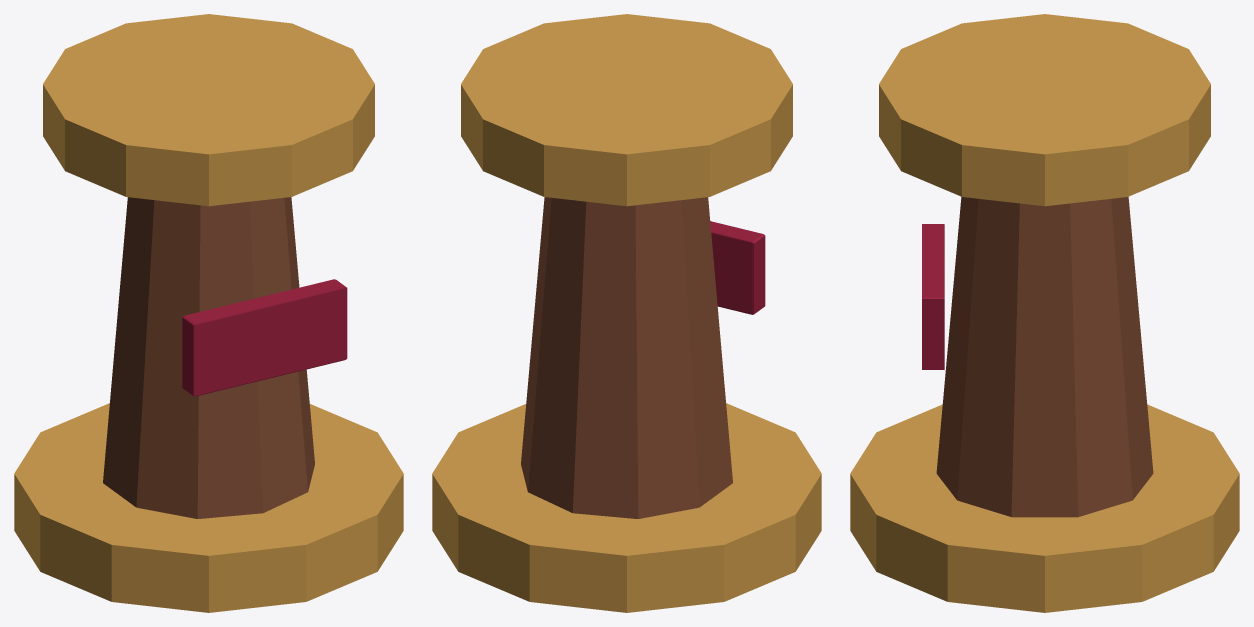
The model's file is pedestal.glb.
The picture shows the model from 3 angles, left to right: view 1: azimuth 30°, elevation 25°; view 2: azimuth 150°, elevation 25°; view 3: azimuth 270°, elevation 25°; orthographic projection.
Parts seen in each view (by area): view 1: pedestal_top, pedestal_column, pedestal_base, pedestal_plaque; view 2: pedestal_column, pedestal_top, pedestal_base, pedestal_plaque; view 3: pedestal_column, pedestal_top, pedestal_base, pedestal_plaque.
Boxes of the visible parts, x1,y1,x2,y2 form: pedestal_top: (43,14,374,206); pedestal_column: (103,197,314,518); pedestal_base: (14,403,403,612); pedestal_plaque: (182,279,347,396); pedestal_column: (521,197,732,518); pedestal_top: (461,14,792,206); pedestal_base: (432,403,821,612); pedestal_plaque: (710,221,765,314); pedestal_column: (936,197,1153,517); pedestal_top: (879,14,1210,206); pedestal_base: (850,404,1239,612); pedestal_plaque: (922,224,944,369).
Size of the model in its own units: 1.36 by 1.72 by 1.36.
